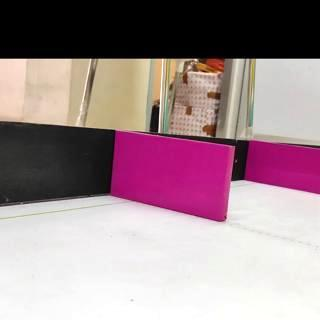xparking: (116, 144, 228, 208), (259, 147, 320, 190)
